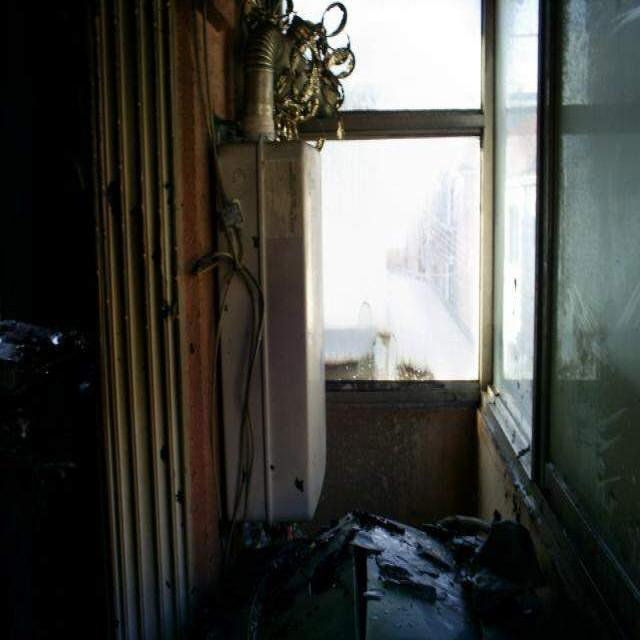Boiler: (230, 90, 330, 508)
